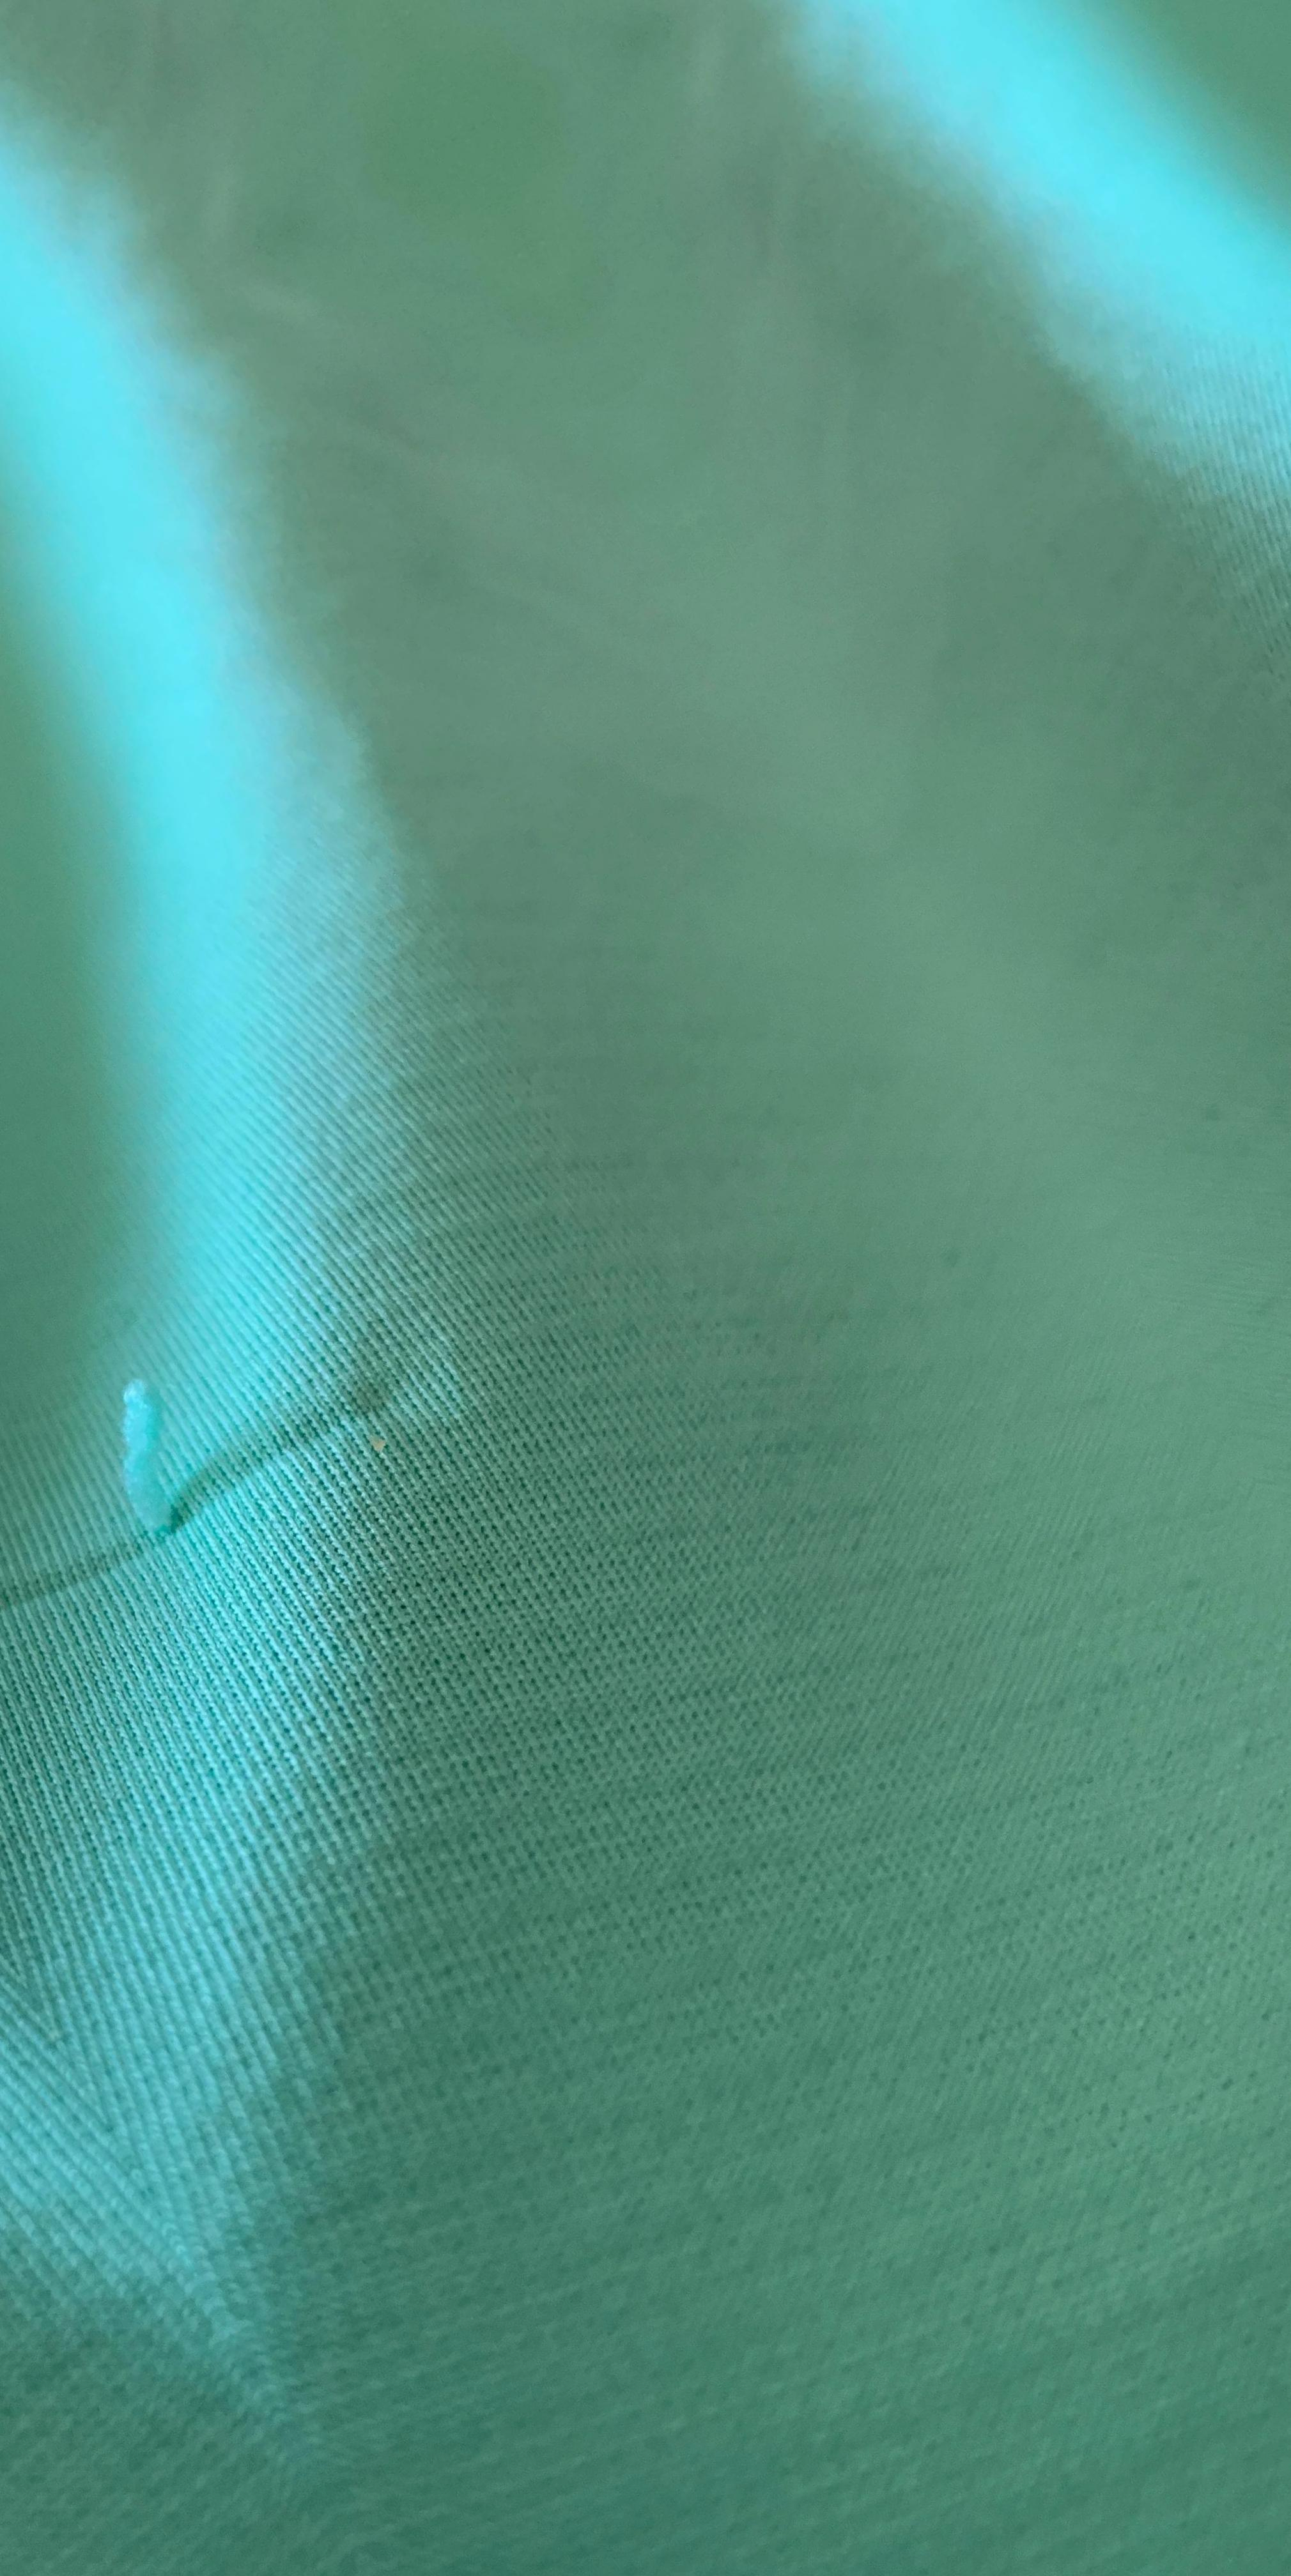snag: (41, 1315, 234, 1615)
